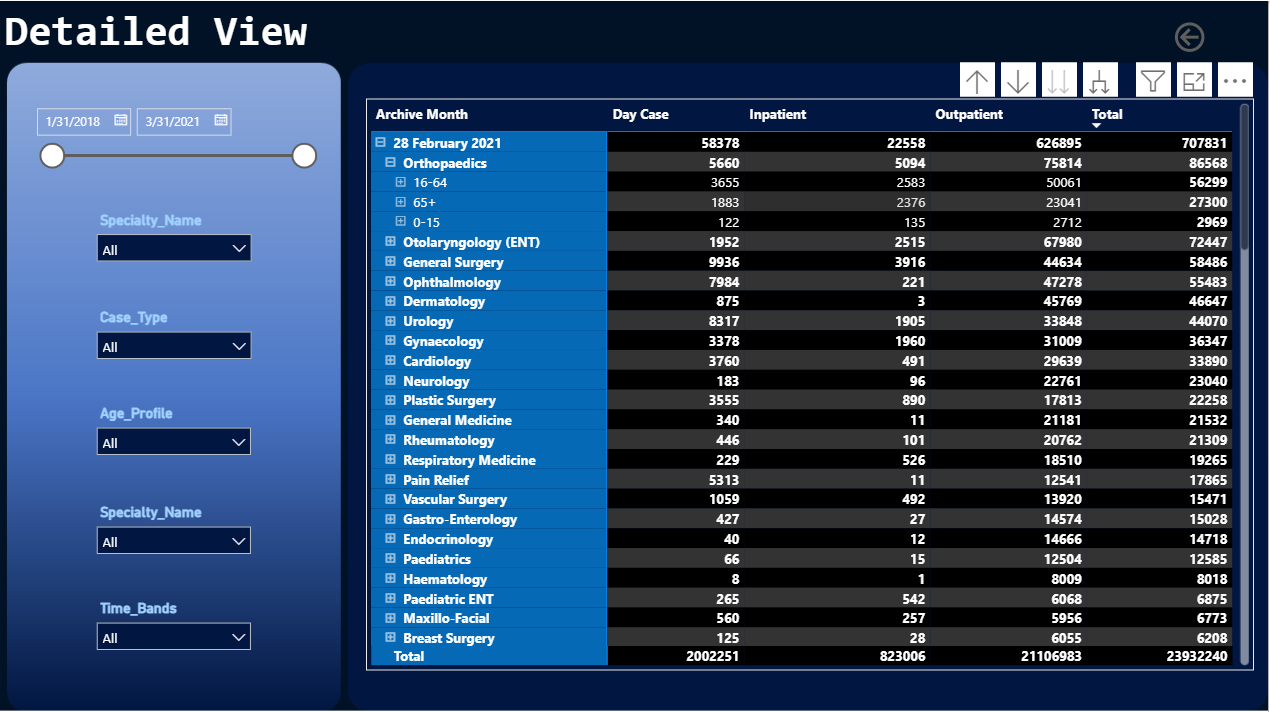

What the dashboard file says about the page in this screenshot:
{"tool":"powerbi","page":{"name":"Detail","canvas":[1280,720],"ordinal":1},"visuals":[{"type":"slicer","fields":{"Values":["All_Data.Archive_Date"]},"box":[23.7,98.1,303.9,95],"z":0},{"type":"slicer","fields":{"Values":["All_Data.Case_Type"]},"box":[88,306.6,176.1,88],"z":1000},{"type":"slicer","fields":{"Values":["All_Data.Specialty_Name"]},"box":[88,207.9,176.1,101.7],"z":2000},{"type":"textbox","box":[0,0,352,112],"z":3000},{"type":"slicer","fields":{"Values":["All_Data.Age_Profile"]},"box":[87.8,402.8,175.6,99.9],"z":4000},{"type":"slicer","fields":{"Values":["All_Data.Specialty_Name"]},"box":[87.8,502.7,175.6,96.9],"z":5000},{"type":"slicer","fields":{"Values":["All_Data.Time_Bands"]},"box":[87.8,599.6,175.6,95.4],"z":6000},{"type":"pivotTable","fields":{"Rows":["All_Data.Archive Month","All_Data.Specialty_Name","All_Data.Age_Profile","All_Data.Time_Bands"],"Columns":["All_Data.Case_Type"],"Values":["Sum(All_Data.Total)"]},"box":[369.5,98.4,896.4,576.9],"z":7000},{"type":"actionButton","box":[1180.8,16.5,99.2,39.7],"z":9000}]}

Visuals, with their boxes in screenshot pixels (x1, y1, x2, y2), scaled from the page's 1280x720 canvas onto the 1270x712 screenshot:
slicer - All_Data.Archive_Date: 24:97:325:191
slicer - All_Data.Case_Type: 87:303:262:390
slicer - All_Data.Specialty_Name: 87:206:262:306
textbox: 0:0:349:111
slicer - All_Data.Age_Profile: 87:398:261:497
slicer - All_Data.Specialty_Name: 87:497:261:593
slicer - All_Data.Time_Bands: 87:593:261:687
pivotTable - All_Data.Archive Month x All_Data.Specialty_Name: 367:97:1256:668
actionButton: 1172:16:1269:56
